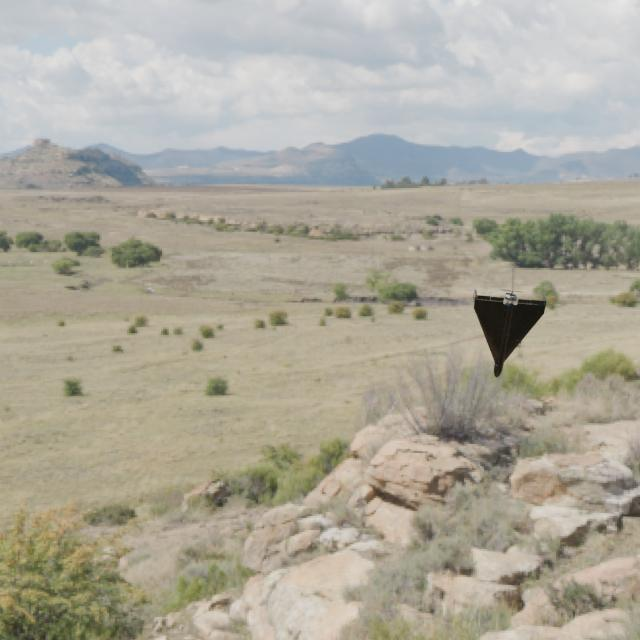Airaplan: (473, 288, 547, 377)
